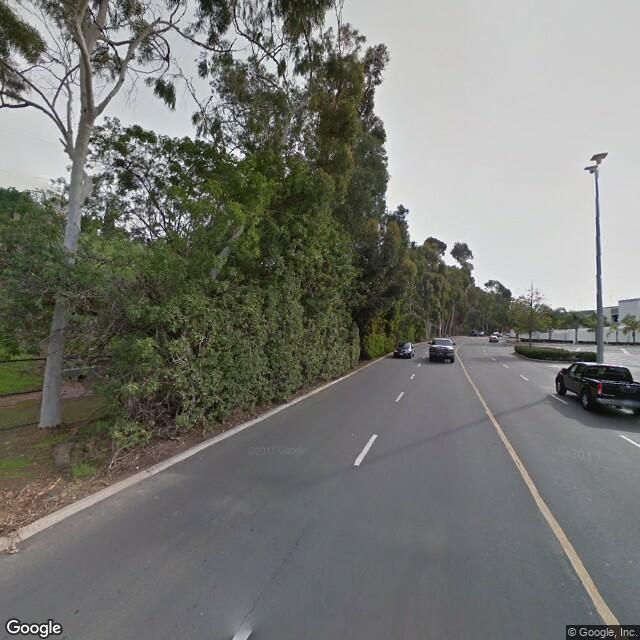litter: (7, 543, 21, 555), (132, 464, 143, 471)
